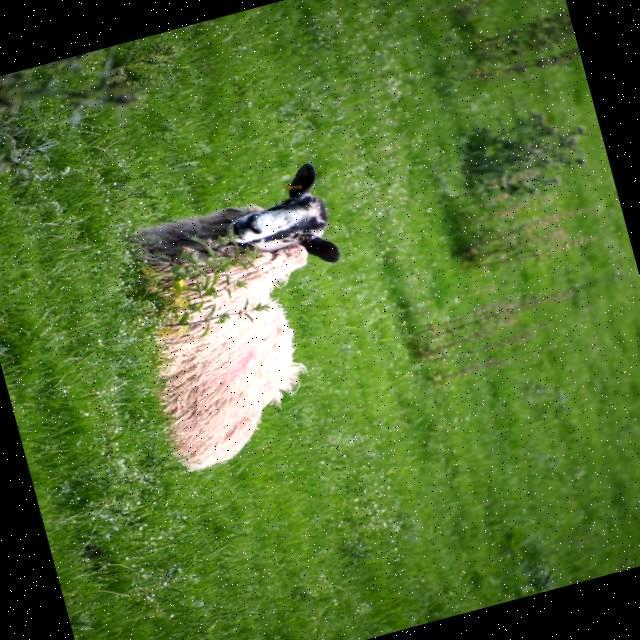sheep: (128, 161, 338, 467)
